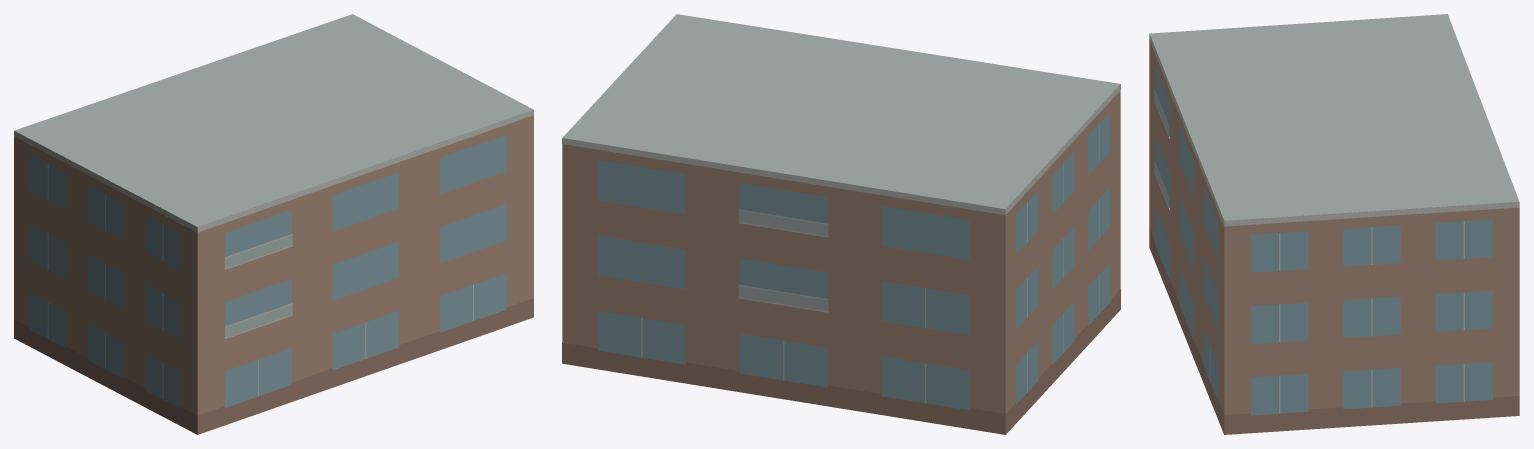
Rendered from survey-upis-32881633.glb.
The picture shows the model from 3 angles, left to right: view 1: azimuth 30°, elevation 25°; view 2: azimuth 150°, elevation 25°; view 3: azimuth 270°, elevation 25°; orthographic projection. The views are drawn at different scales.
Visible parts, largest first — view 1: survey-upis-32881633.tmp; view 2: survey-upis-32881633.tmp; view 3: survey-upis-32881633.tmp.
Boxes of the visible parts, <box> form: survey-upis-32881633.tmp: <box>14,14,533,434</box>; survey-upis-32881633.tmp: <box>562,14,1120,434</box>; survey-upis-32881633.tmp: <box>1149,14,1519,434</box>.
Size of the model in its own units: 18.97 by 9.15 by 14.35.
